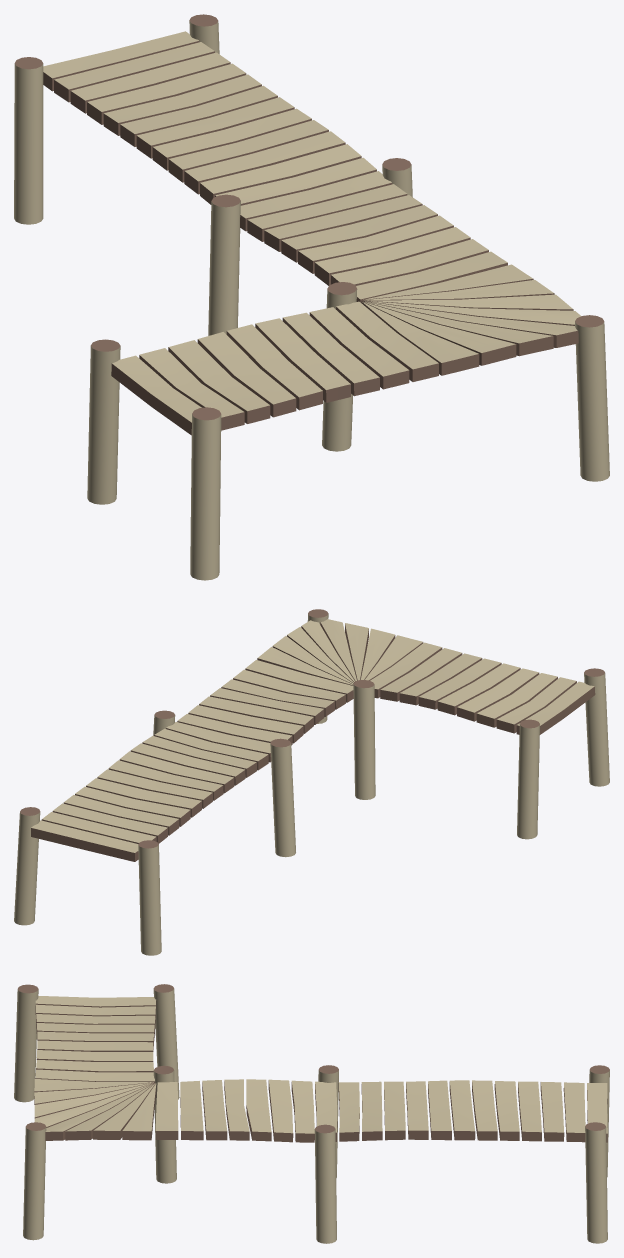
File: PierModel.fbx
3 renders of one model, top to bottom at view 1: azimuth 30°, elevation 25°; view 2: azimuth 150°, elevation 25°; view 3: azimuth 270°, elevation 25°, orthographic. The views are drawn at different scales.
Parts seen in each view (by area): view 1: PierModel; view 2: PierModel; view 3: PierModel.
Boxes of the visible parts, x1,y1,x2,y2 form: PierModel: (14,14,609,580); PierModel: (14,609,609,955); PierModel: (14,984,609,1243).
Bounding box in the file's own units: 35.48 × 12.39 × 59.42.
